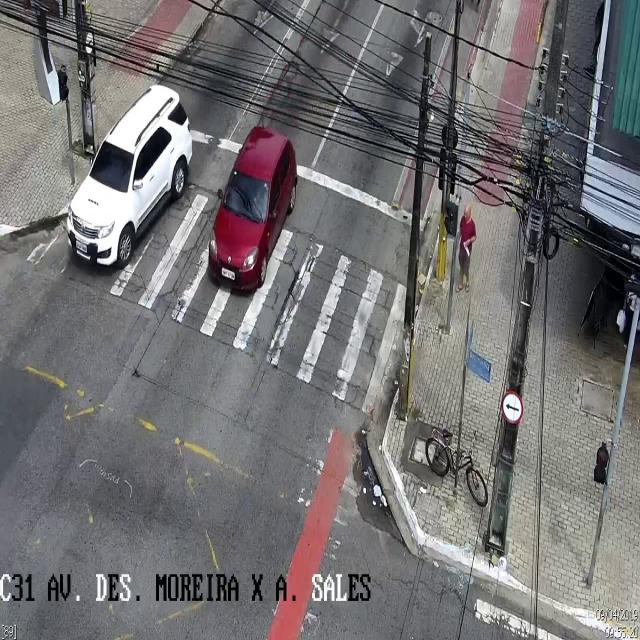Car: (66, 86, 194, 270), (210, 126, 296, 294)
